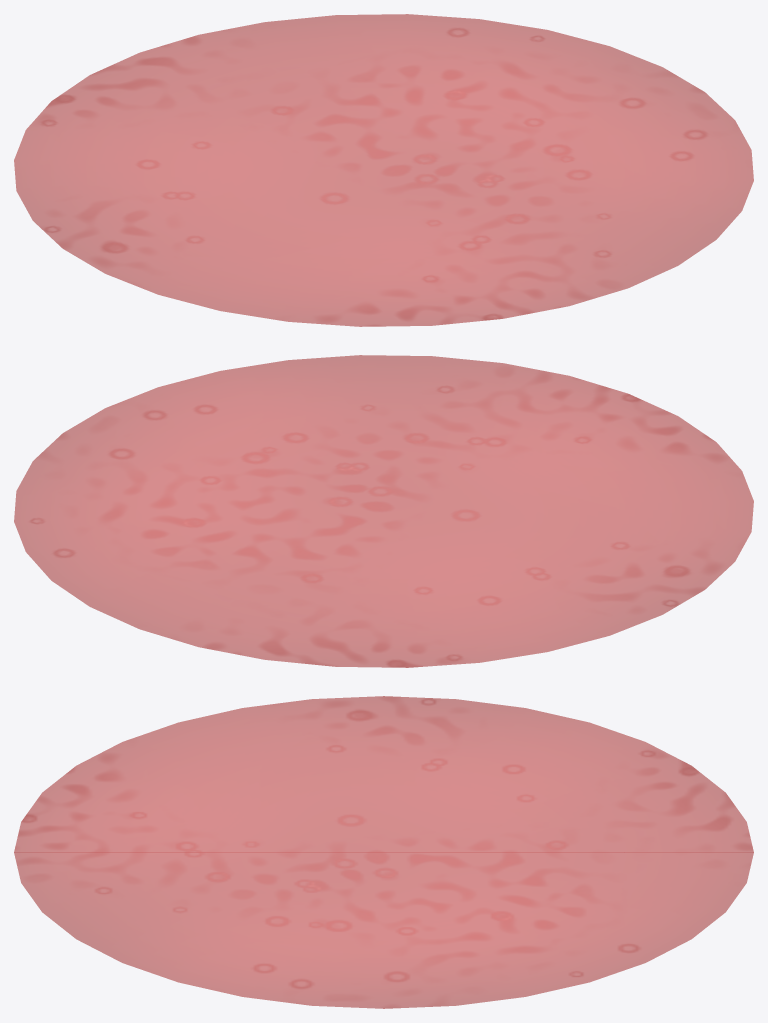
The model's file is mm6_deco_barrel_liquid_red.glb.
3 views of the same model, one above another, from view 1: azimuth 30°, elevation 25°; view 2: azimuth 150°, elevation 25°; view 3: azimuth 270°, elevation 25° (orthographic).
Visible parts, largest first — view 1: Liquid; view 2: Liquid; view 3: Liquid.
Part boxes in pixels (left/top/right/bottom): Liquid: left=14, top=14, right=753, bottom=326; Liquid: left=14, top=355, right=753, bottom=667; Liquid: left=14, top=696, right=753, bottom=1008.
Bounding box in the file's own units: 0.548 × 0 × 0.548.
1 material, 1 textured.
